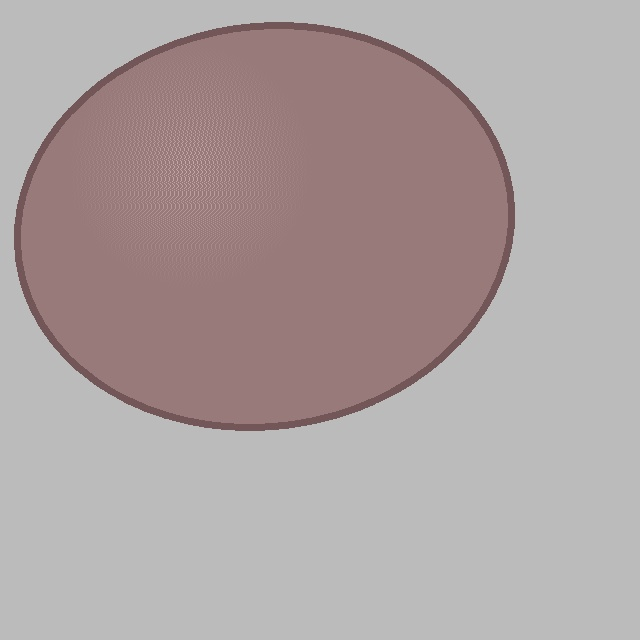lens: (18, 26, 510, 426)
